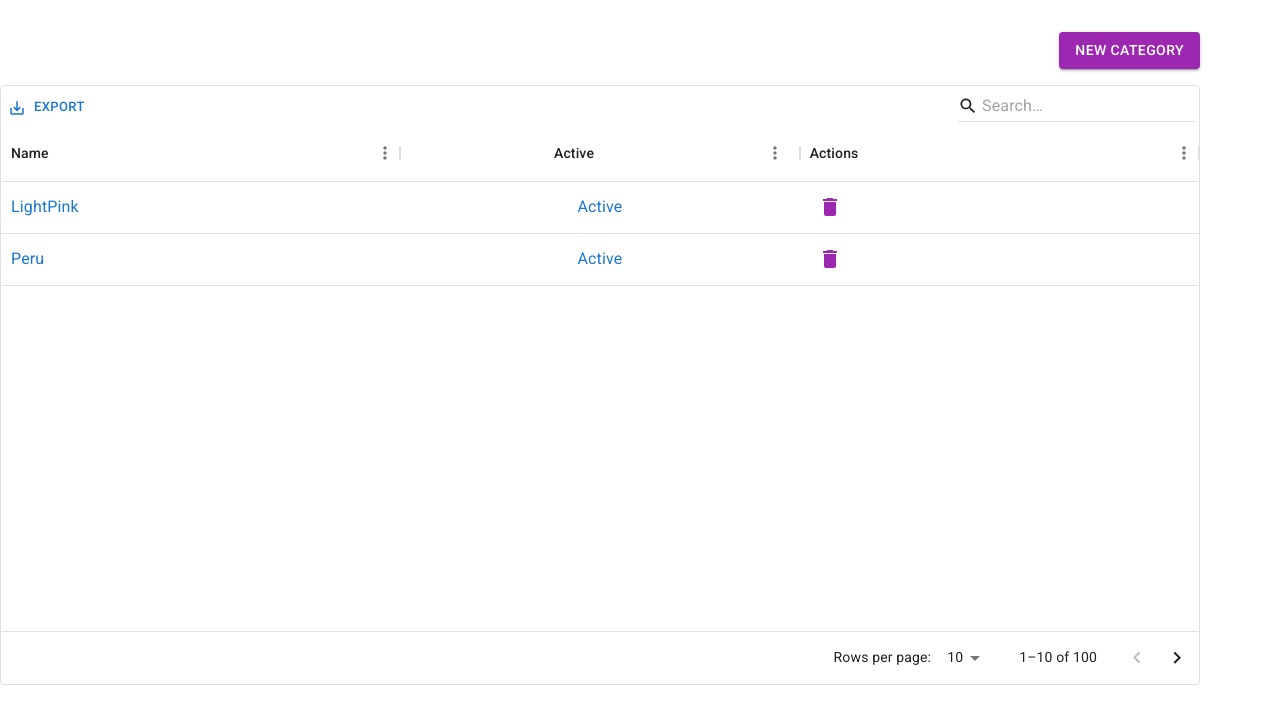
Test: ListCategory › should handle On PageChange
The image size is (1280, 720).
Check: the text "LightPink" is shown, box [11,195,79,219]
Click the button with test id "KeyboardArrowRightIcon" at (1177,658), box [1157,638,1197,678]
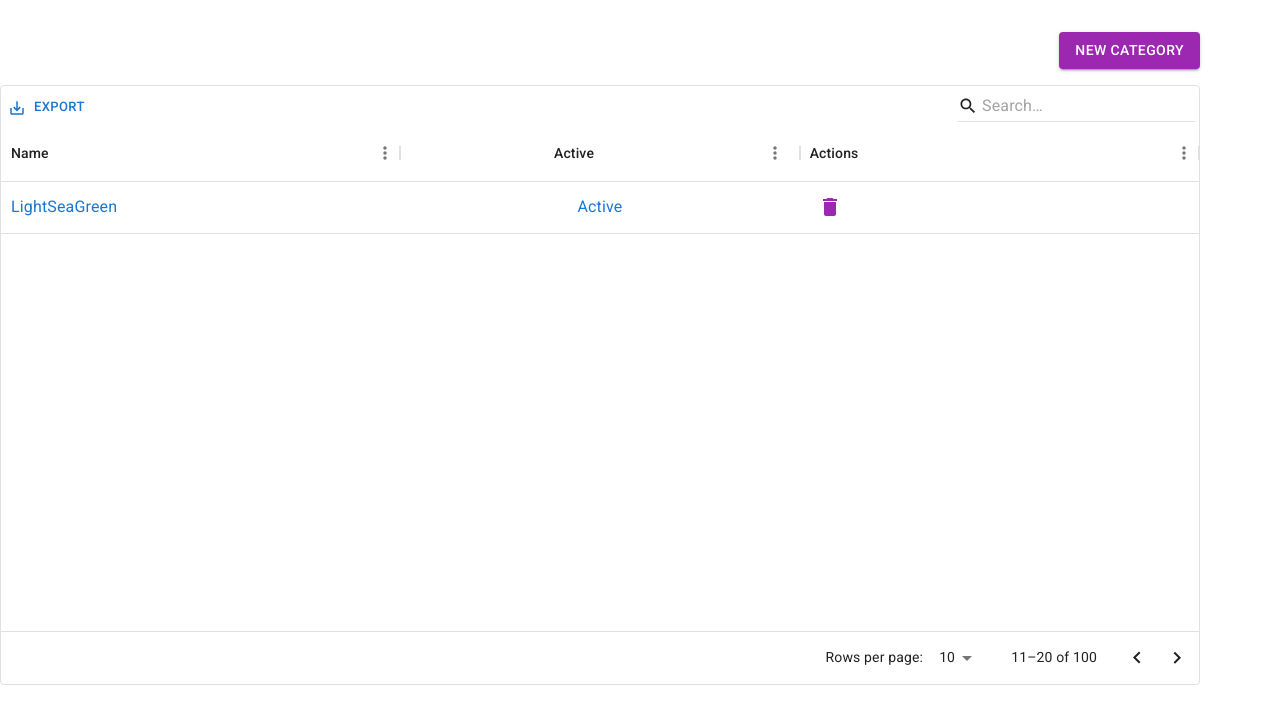
Check: the text "LightSeaGreen" is shown, box [11,195,117,219]
